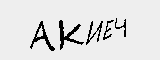А: (29, 18, 54, 52)
Е: (102, 17, 115, 41)
И: (86, 17, 103, 45)
К: (57, 20, 85, 49)
Ч: (112, 16, 129, 40)
